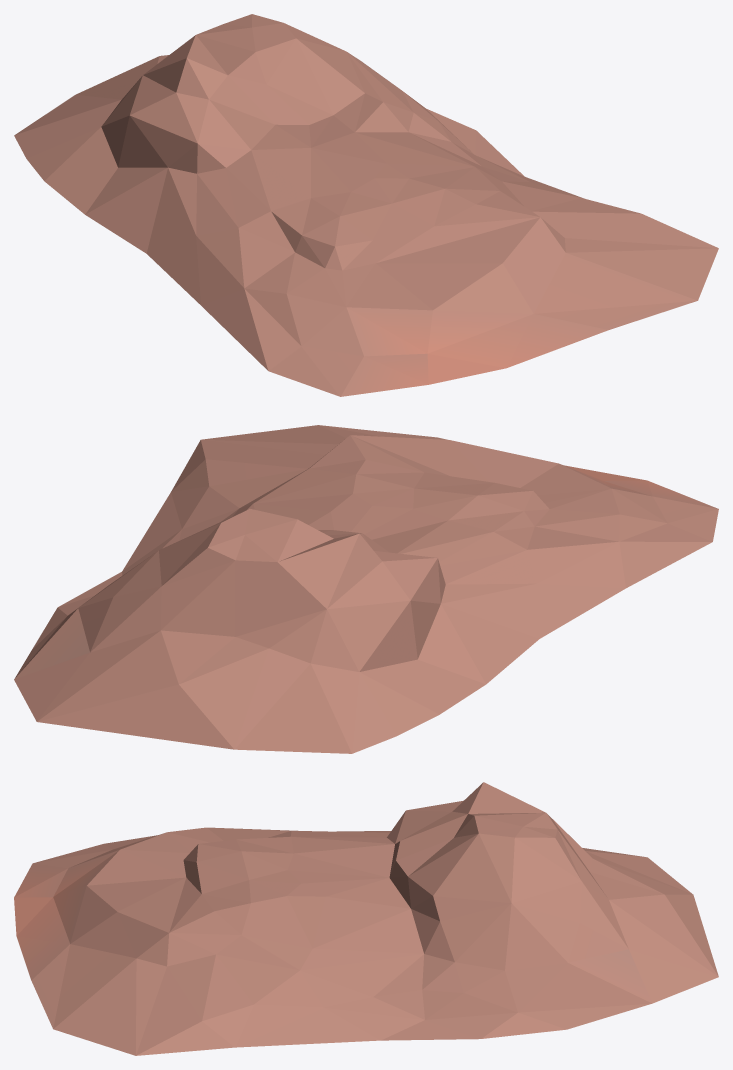
Rendered from sand_003.fbx.
3 renders of one model, top to bottom at view 1: azimuth 30°, elevation 25°; view 2: azimuth 150°, elevation 25°; view 3: azimuth 270°, elevation 25°, orthographic. The views are drawn at different scales.
Parts seen in each view (by area): view 1: sand_003; view 2: sand_003; view 3: sand_003.
Part boxes in pixels (x1,y1,x2,y2): sand_003: (14, 14, 718, 396); sand_003: (14, 425, 718, 753); sand_003: (14, 782, 718, 1055).
Size of the model in its own units: 3525 by 5042 by 1051.
